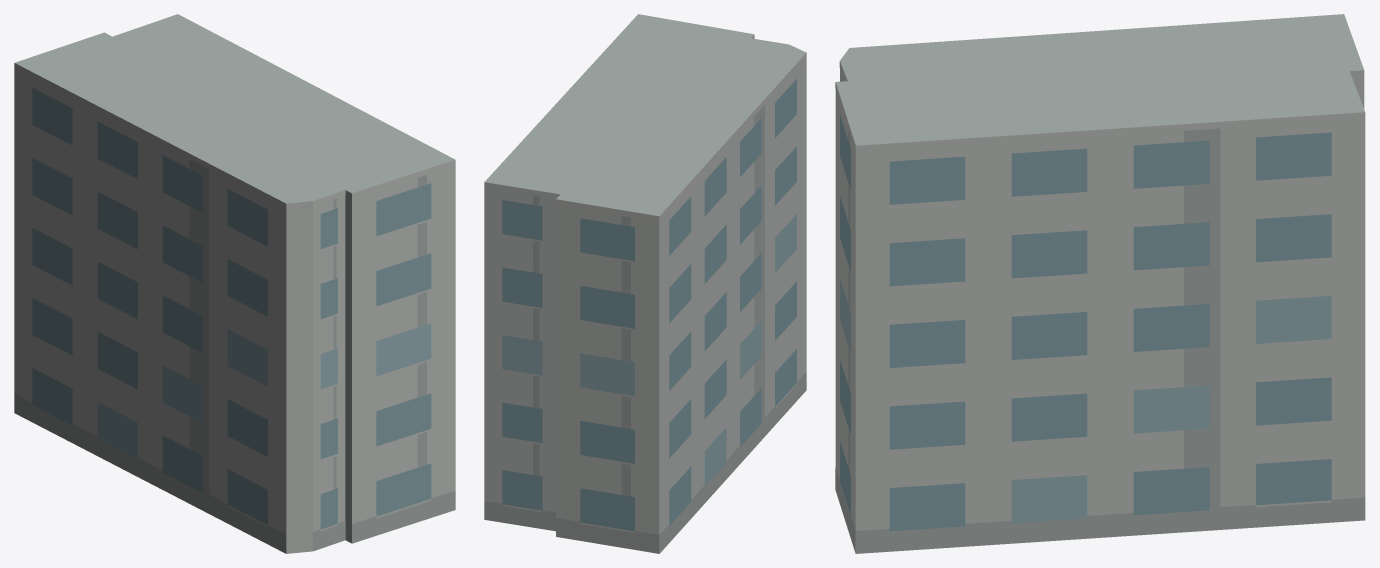
File: survey-upis-32705473.glb
The picture shows the model from 3 angles, left to right: view 1: azimuth 30°, elevation 25°; view 2: azimuth 150°, elevation 25°; view 3: azimuth 270°, elevation 25°; orthographic projection. The views are drawn at different scales.
Parts seen in each view (by area): view 1: survey-upis-32705473.tmp; view 2: survey-upis-32705473.tmp; view 3: survey-upis-32705473.tmp.
Boxes of the visible parts, box(x1,y1,x2,y2) form: survey-upis-32705473.tmp: box(14, 14, 455, 553); survey-upis-32705473.tmp: box(484, 14, 806, 553); survey-upis-32705473.tmp: box(835, 14, 1365, 553).
Bounding box in the file's own units: 10.18 × 14.7 × 17.3.
